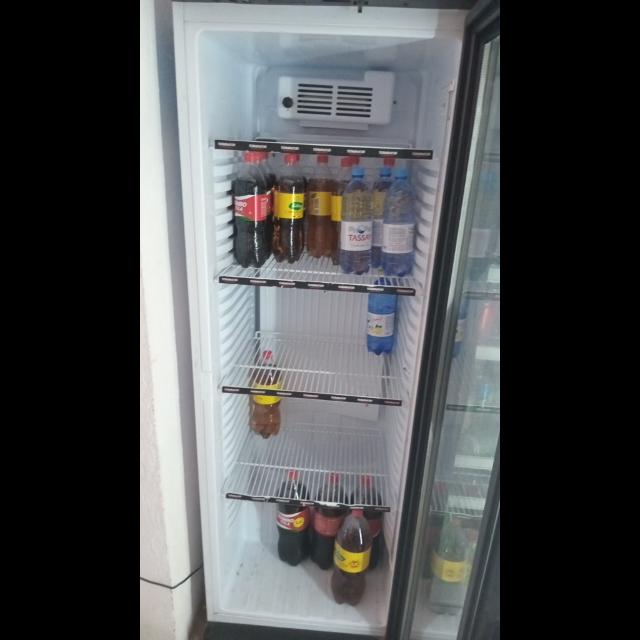Cooling-Display: (172, 1, 482, 640)
